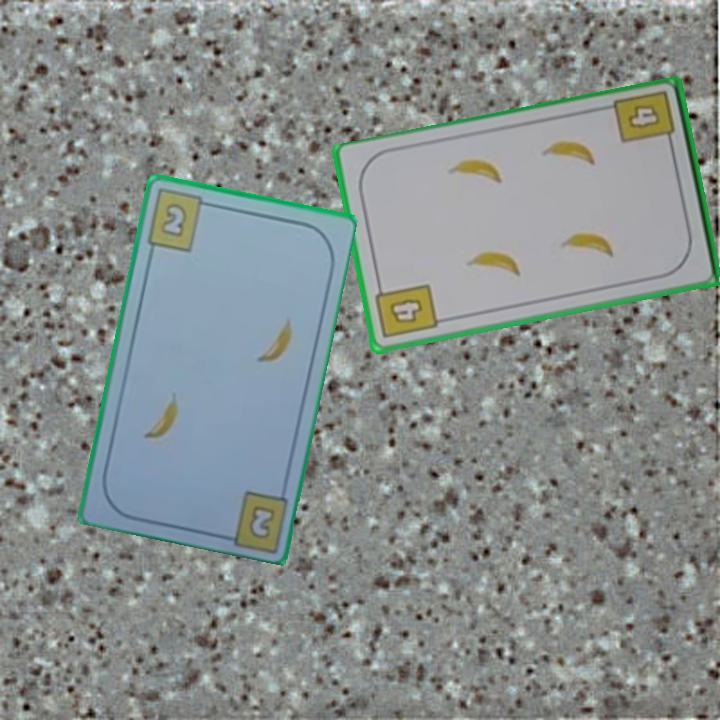2b: (143, 186, 217, 255), (244, 501, 278, 542)
4b: (610, 87, 678, 153), (372, 279, 441, 342)
